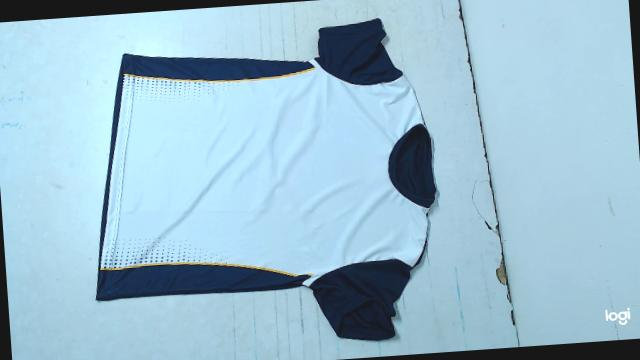new-garment: (96, 19, 435, 340)
